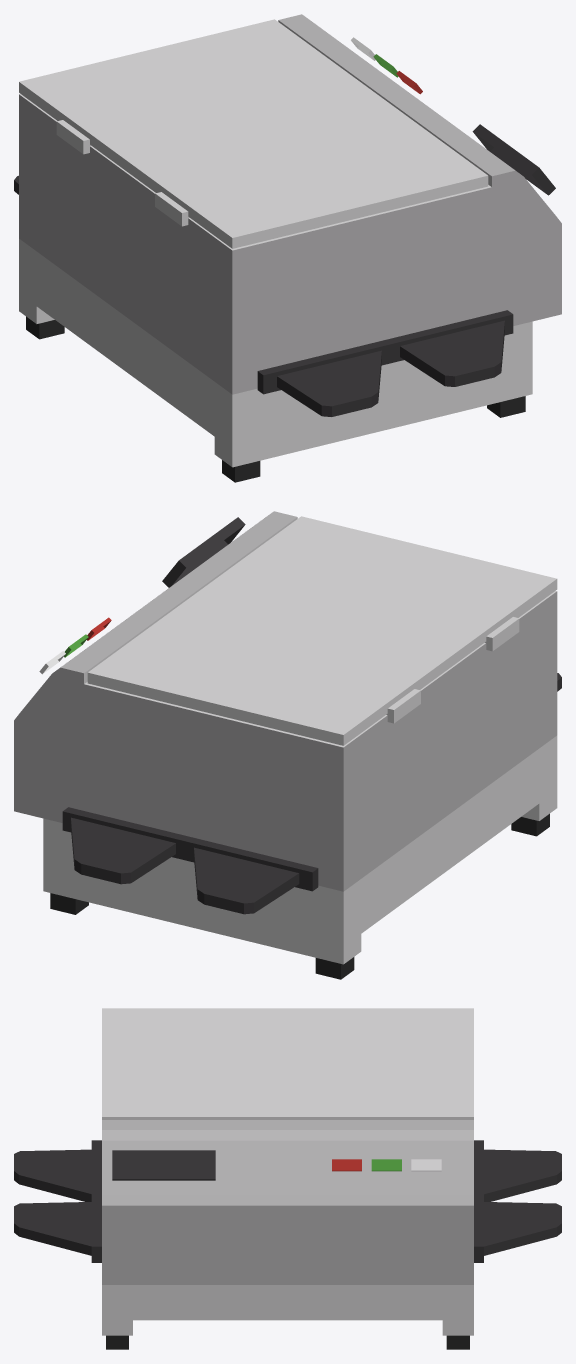
Rendered from SM_Printer_01.glb.
3 views of the same model, one above another, from view 1: azimuth 30°, elevation 25°; view 2: azimuth 150°, elevation 25°; view 3: azimuth 270°, elevation 25° (orthographic). The views are drawn at different scales.
Parts seen in each view (by area): view 1: SM_Printer_01; view 2: SM_Printer_01; view 3: SM_Printer_01.
Boxes of the visible parts, <box> form: SM_Printer_01: <box>14,14,561,482</box>; SM_Printer_01: <box>14,511,561,979</box>; SM_Printer_01: <box>14,1008,561,1349</box>.
Size of the model in its own units: 0.4514 by 0.3178 by 0.7321.
Materials: 1 (1 with a texture image).
